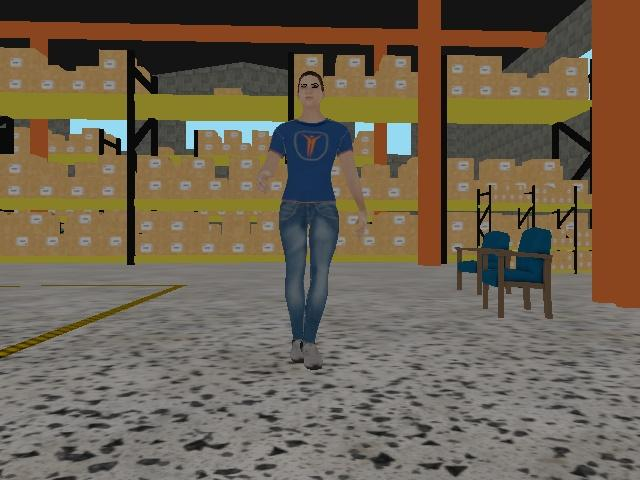chair: (479, 229, 554, 319), (454, 227, 513, 295)
person: (254, 71, 369, 372)
